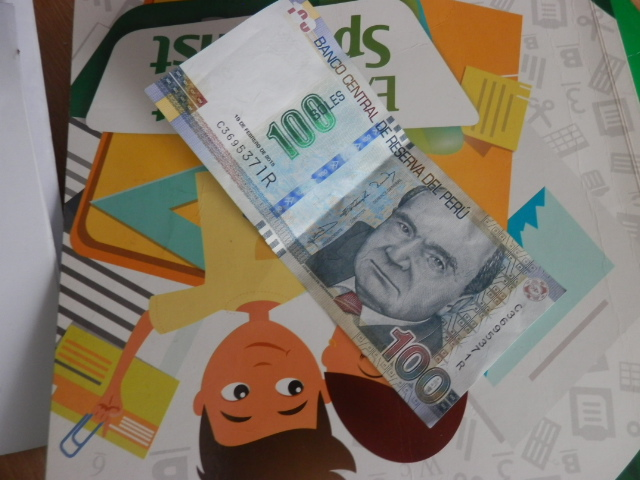B100: (140, 11, 603, 428)
